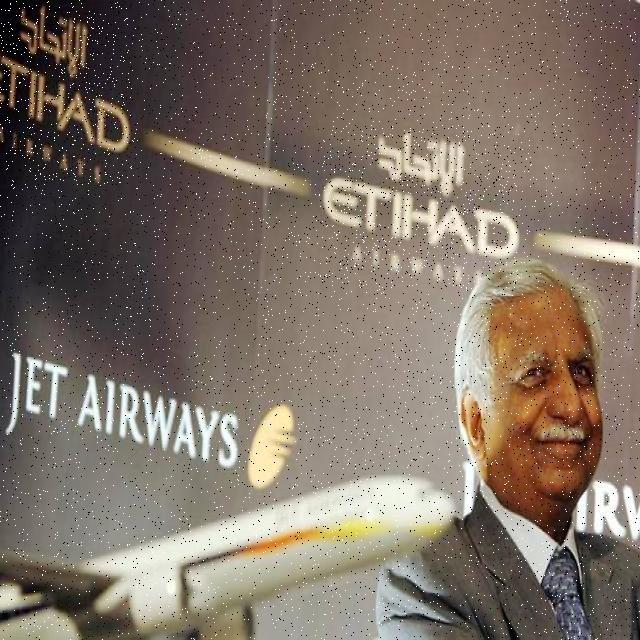Etihad Airways: (322, 126, 518, 286), (0, 1, 132, 185)
